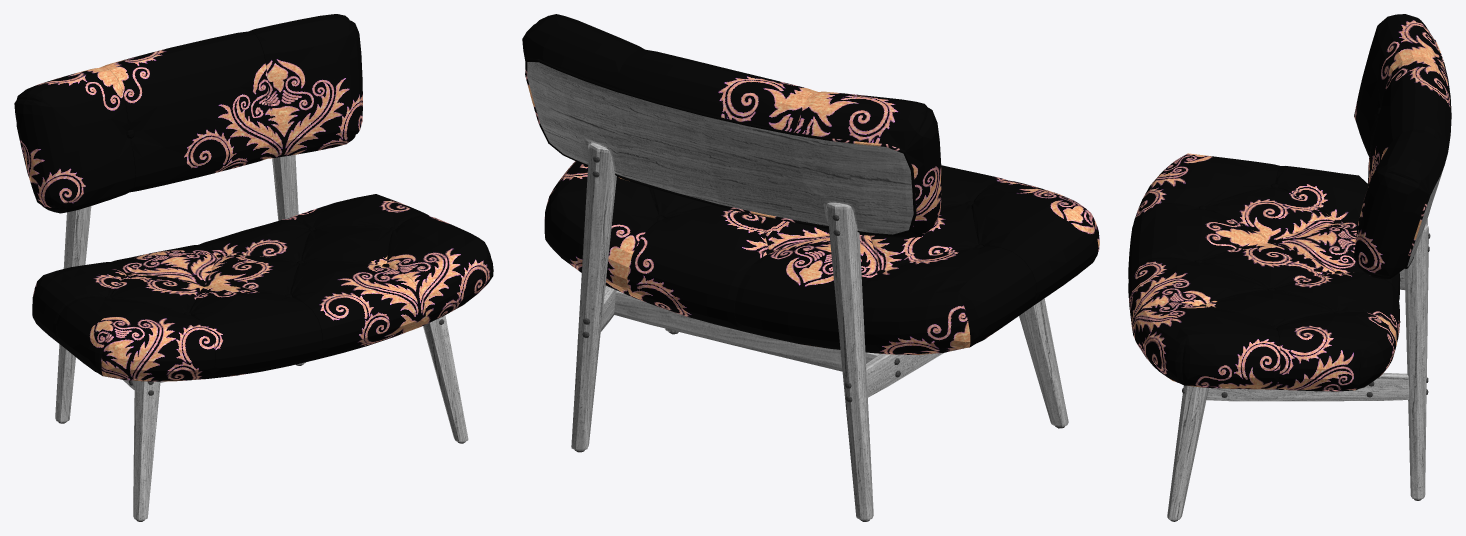
File: ChairDamaskPurplegold.obj
The picture shows the model from 3 angles, left to right: view 1: azimuth 30°, elevation 25°; view 2: azimuth 150°, elevation 25°; view 3: azimuth 270°, elevation 25°; orthographic projection. The views are drawn at different scales.
Visible parts, largest first — view 1: oval_tufted_chair_seat_fabric, oval_tufted_chair_back_fabric, oval_tufted_chair_legs_frame; view 2: oval_tufted_chair_seat_fabric, oval_tufted_chair_back_panel, oval_tufted_chair_legs_frame, oval_tufted_chair_back_fabric, oval_tufted_chair_back_welt; view 3: oval_tufted_chair_seat_fabric, oval_tufted_chair_back_fabric, oval_tufted_chair_legs_frame, oval_tufted_chair_back_welt, oval_tufted_chair_back_panel.
Boxes of the visible parts, box(x1,y1,x2,y2) form: oval_tufted_chair_seat_fabric: box(32, 194, 493, 380); oval_tufted_chair_back_fabric: box(14, 14, 362, 213); oval_tufted_chair_legs_frame: box(55, 154, 468, 520); oval_tufted_chair_seat_fabric: box(544, 161, 1099, 354); oval_tufted_chair_back_panel: box(527, 62, 913, 234); oval_tufted_chair_legs_frame: box(571, 142, 1068, 520); oval_tufted_chair_back_fabric: box(522, 14, 941, 237); oval_tufted_chair_back_welt: box(525, 58, 916, 236); oval_tufted_chair_seat_fabric: box(1128, 153, 1400, 390); oval_tufted_chair_back_fabric: box(1354, 14, 1450, 279); oval_tufted_chair_legs_frame: box(1167, 219, 1428, 520); oval_tufted_chair_back_welt: box(1404, 39, 1451, 268); oval_tufted_chair_back_panel: box(1407, 169, 1443, 266).
Bounding box in the file's own units: 0.8286 × 0.6873 × 0.5718.
Materials: 4 (3 with a texture image).
